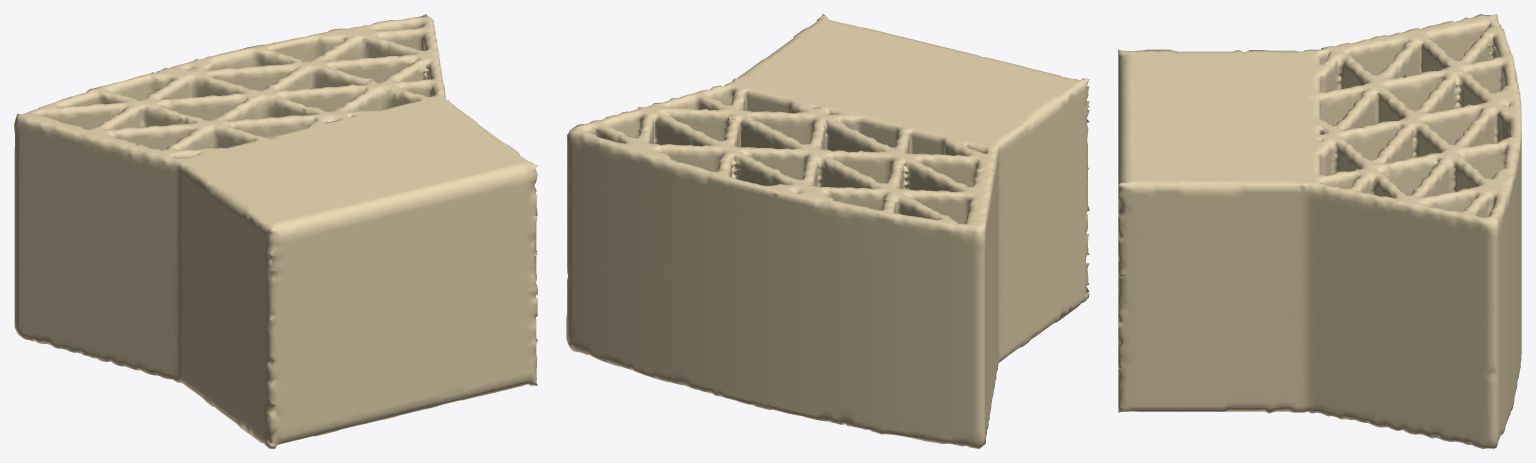
File: ollie-paw-shape-010.glb
3 views of the same model, side by side, from view 1: azimuth 30°, elevation 25°; view 2: azimuth 150°, elevation 25°; view 3: azimuth 270°, elevation 25° (orthographic). The views are drawn at different scales.
Visible parts, largest first — view 1: _Paw_SemiCirclePercent_10_; view 2: _Paw_SemiCirclePercent_10_; view 3: _Paw_SemiCirclePercent_10_.
Part boxes in pixels (x1,y1,x2,y2): _Paw_SemiCirclePercent_10_: [14, 14, 537, 448]; _Paw_SemiCirclePercent_10_: [566, 14, 1089, 448]; _Paw_SemiCirclePercent_10_: [1118, 14, 1521, 448].
Bounding box in the file's own units: 39.62 × 20 × 32.
